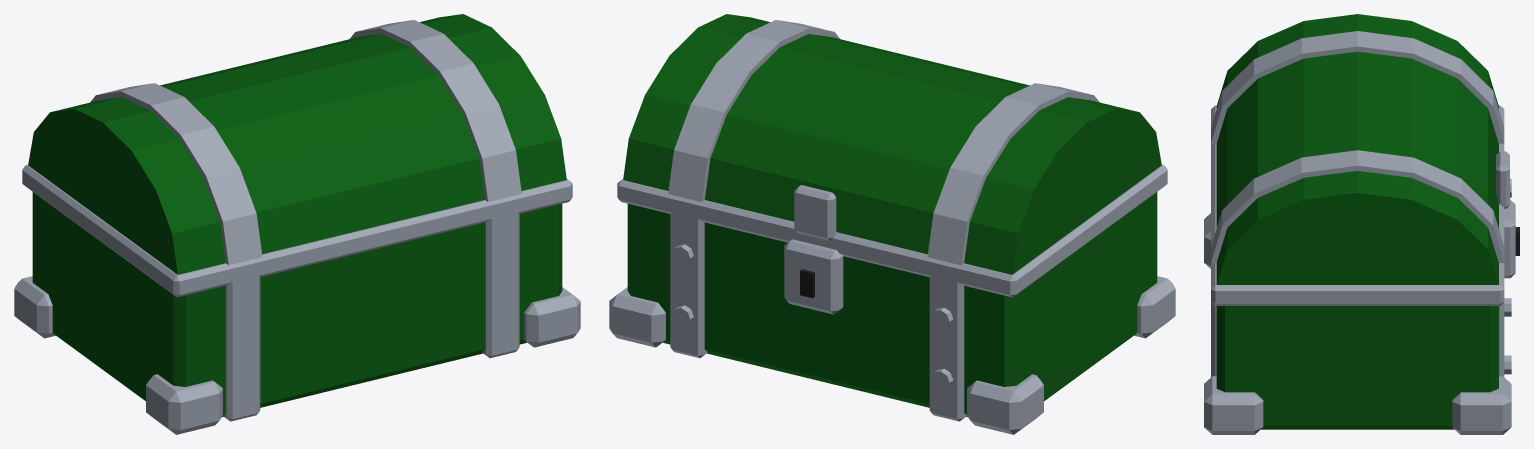
The model's file is chest_uncommon.fbx.
3 renders of one model, left to right at view 1: azimuth 30°, elevation 25°; view 2: azimuth 150°, elevation 25°; view 3: azimuth 270°, elevation 25°, orthographic. The views are drawn at different scales.
Visible parts, largest first — view 1: Lid, Base; view 2: Lid, Base; view 3: Lid, Base.
Boxes of the visible parts, box(x1,y1,x2,y2) form: Lid: box(28, 14, 566, 274); Base: box(14, 164, 580, 434); Lid: box(623, 14, 1161, 274); Base: box(609, 164, 1175, 434); Lid: box(1211, 14, 1509, 284); Base: box(1204, 105, 1519, 434).
Bounding box in the file's own units: 3.18 × 1.93 × 2.24.
